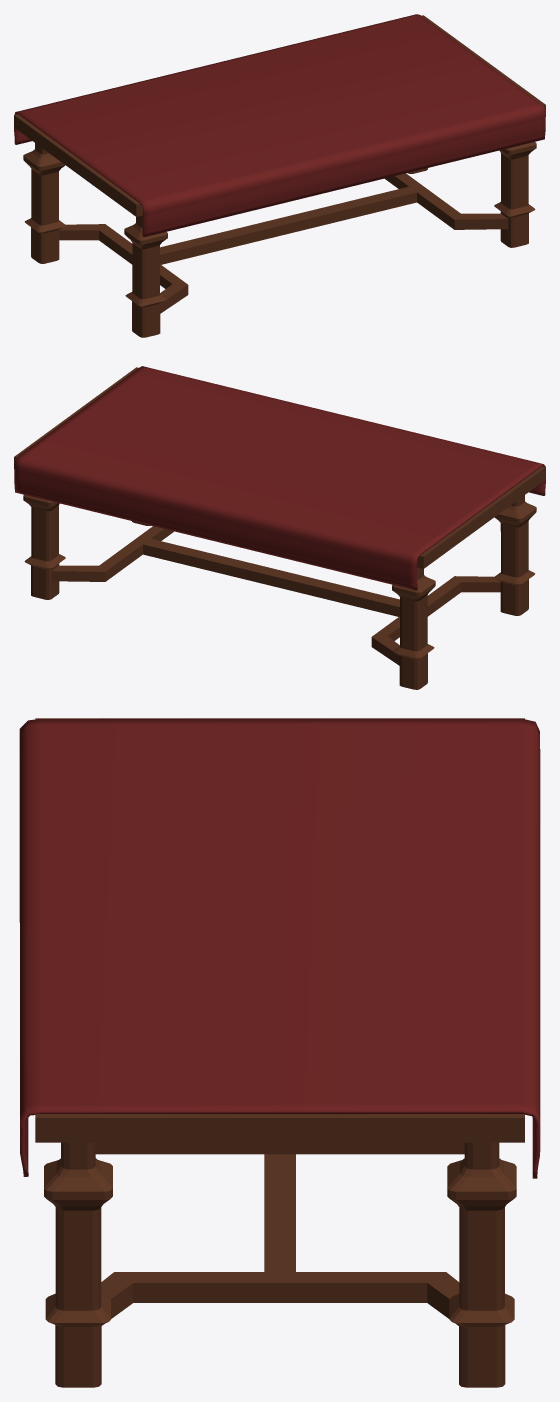
File: Стол2.fbx
3 renders of one model, top to bottom at view 1: azimuth 30°, elevation 25°; view 2: azimuth 150°, elevation 25°; view 3: azimuth 270°, elevation 25°, orthographic. The views are drawn at different scales.
Parts seen in each view (by area): view 1: Plane, Cube.003; view 2: Plane, Cube.003; view 3: Plane, Cube.003.
Boxes of the visible parts, x1,y1,x2,y2 form: Plane: (14,14,545,237); Cube.003: (14,15,545,337); Plane: (14,366,545,590); Cube.003: (14,367,545,689); Plane: (19,718,540,1178); Cube.003: (35,718,524,1387).
Size of the model in its own units: 387 by 128 by 213.
